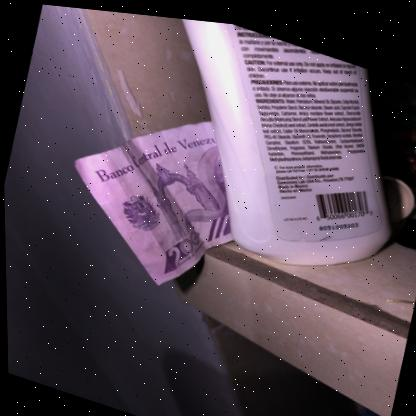one_hundred-back-vef: (49, 74, 259, 306)
